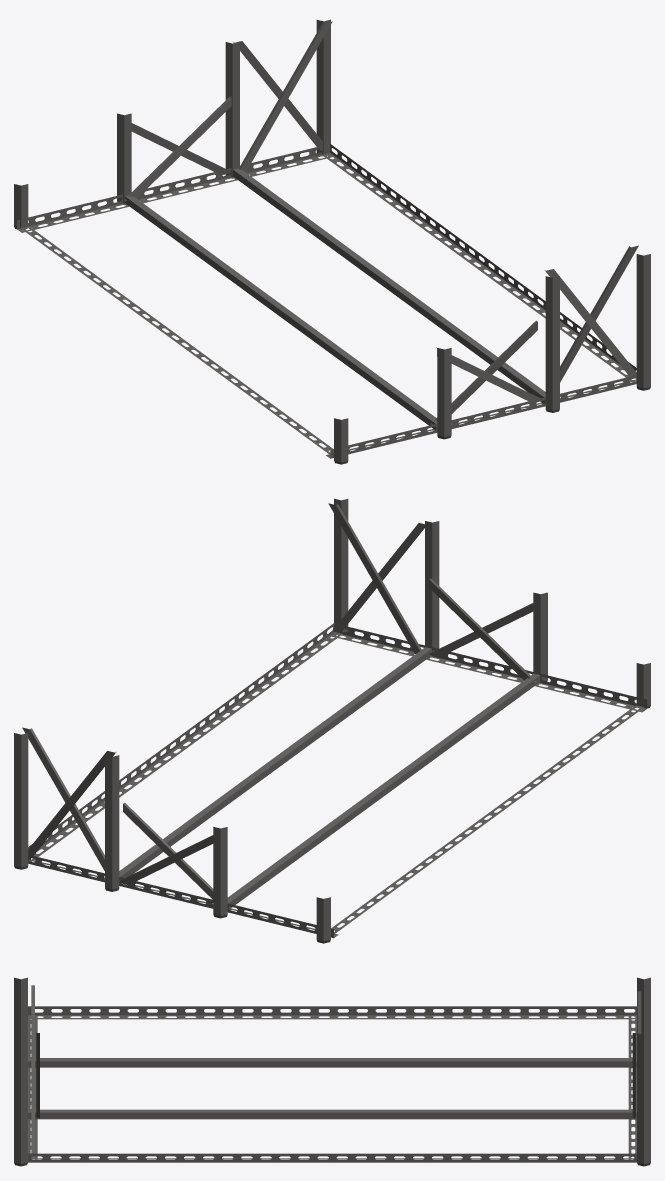
Rendered from kd_stage_135d18_4_70_bounded.glb.
The picture shows the model from 3 angles, top to bottom: view 1: azimuth 30°, elevation 25°; view 2: azimuth 150°, elevation 25°; view 3: azimuth 270°, elevation 25°; orthographic projection. The views are drawn at different scales.
Parts seen in each view (by area): view 1: kd_stage_135d18_4_70_bounded; view 2: kd_stage_135d18_4_70_bounded; view 3: kd_stage_135d18_4_70_bounded.
Boxes of the visible parts, x1,y1,x2,y2 form: kd_stage_135d18_4_70_bounded: (14,19,650,464); kd_stage_135d18_4_70_bounded: (14,498,650,943); kd_stage_135d18_4_70_bounded: (14,977,650,1166).
Size of the model in its own units: 1.1 by 0.45 by 1.97.
Materials: 1 (1 with a texture image).
